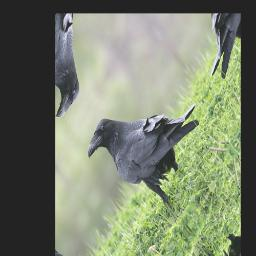Crow: (83, 41, 217, 240)
